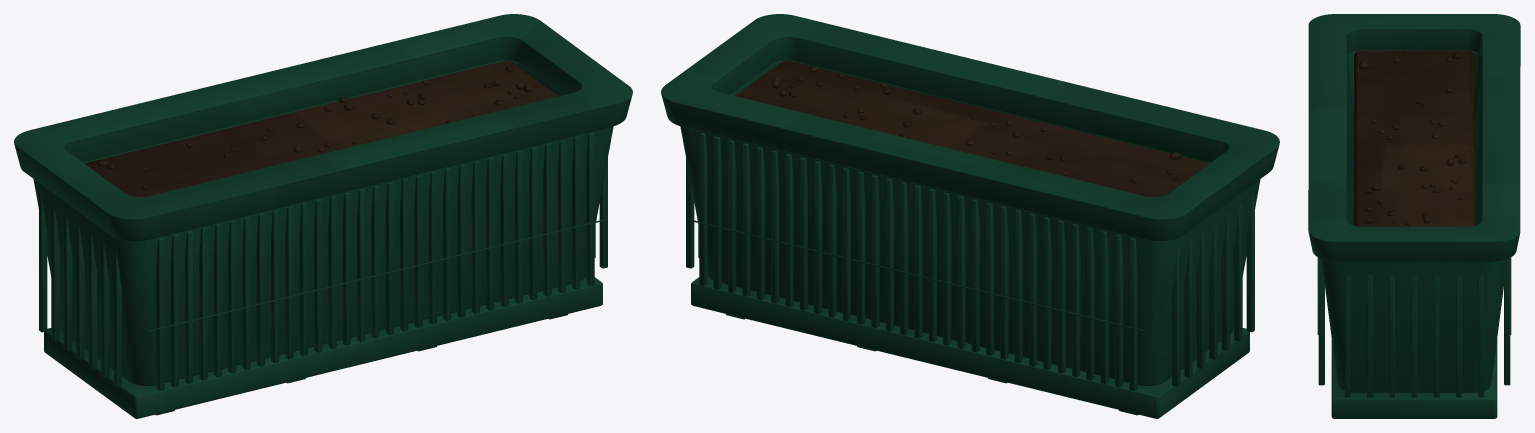
File: planter.glb
3 views of the same model, side by side, from view 1: azimuth 30°, elevation 25°; view 2: azimuth 150°, elevation 25°; view 3: azimuth 270°, elevation 25° (orthographic). The views are drawn at different scales.
Parts seen in each view (by area): view 1: GEO-Planter-LOD0; view 2: GEO-Planter-LOD0; view 3: GEO-Planter-LOD0.
Part boxes in pixels (x1=…): GEO-Planter-LOD0: x1=14, y1=14, x2=632, y2=418; GEO-Planter-LOD0: x1=661, y1=14, x2=1279, y2=418; GEO-Planter-LOD0: x1=1308, y1=14, x2=1520, y2=418.
Size of the model in its own units: 0.5977 by 0.2443 by 0.2354.
Materials: 2 (2 with a texture image).
